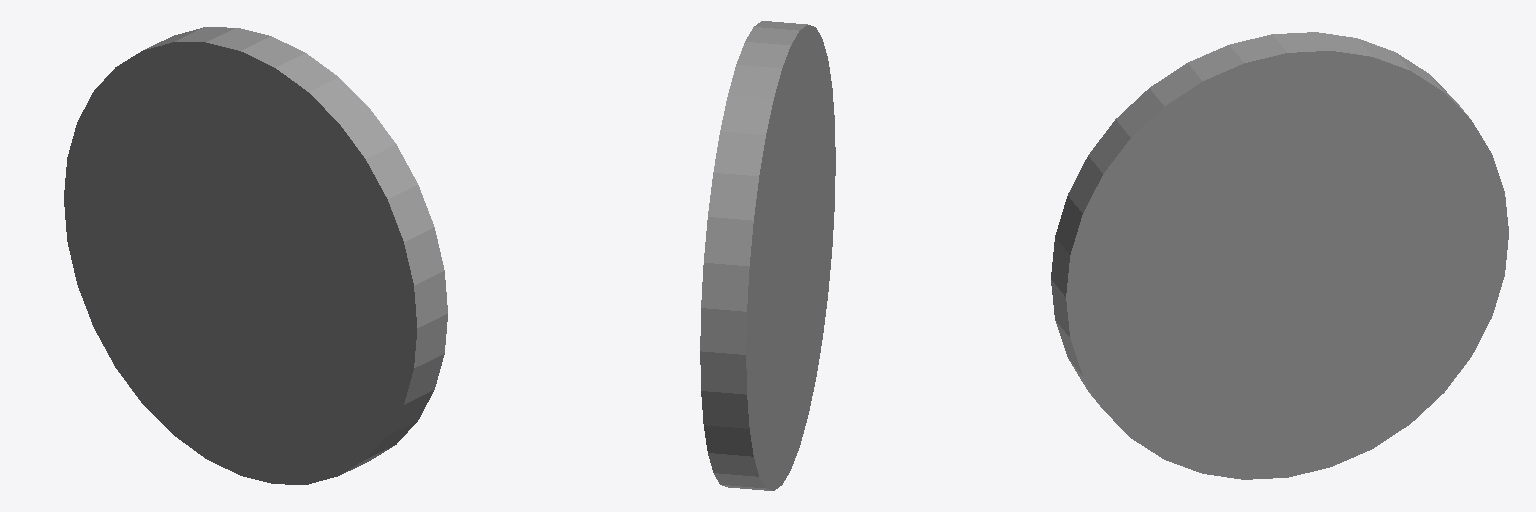
Rendered from creeper_coin.obj.
3 views of the same model, side by side, from view 1: azimuth 30°, elevation 25°; view 2: azimuth 150°, elevation 25°; view 3: azimuth 270°, elevation 25° (orthographic).
Visible parts, largest first — view 1: Cube; view 2: Cube; view 3: Cube.
Boxes of the visible parts, x1,y1,x2,y2 form: Cube: [64, 27, 447, 484]; Cube: [700, 21, 835, 490]; Cube: [1051, 32, 1508, 479].
Bounding box in the file's own units: 0.8396 × 2 × 1.96.